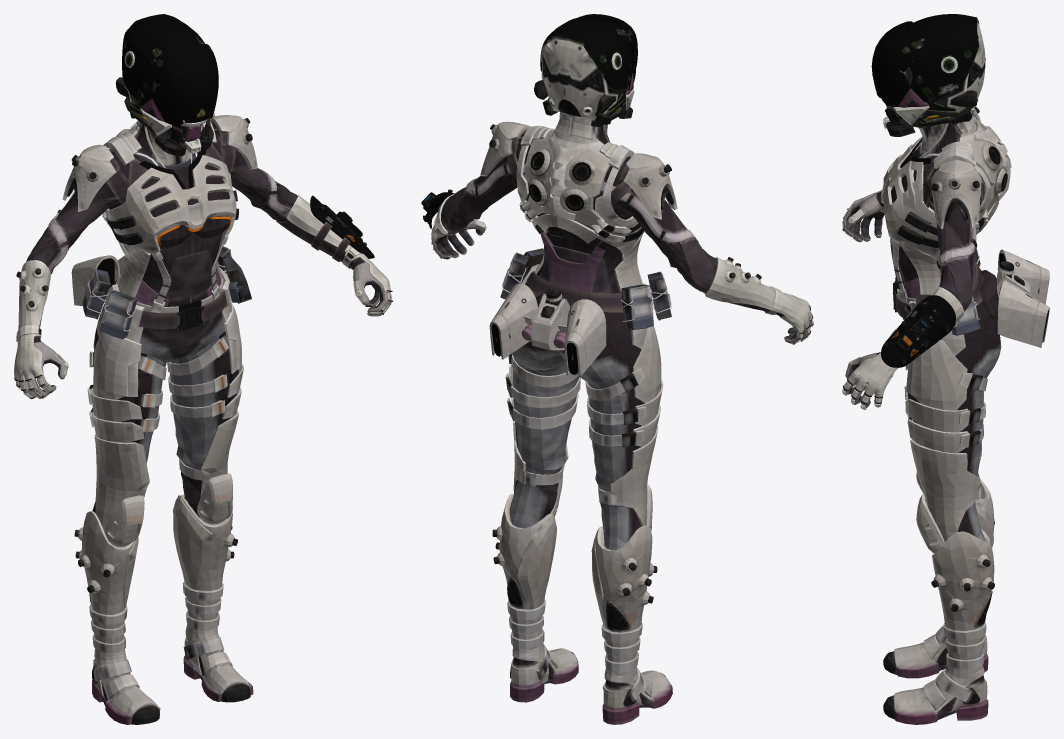
The model's file is wraith.gltf.
3 views of the same model, side by side, from view 1: azimuth 30°, elevation 25°; view 2: azimuth 150°, elevation 25°; view 3: azimuth 270°, elevation 25° (orthographic).
Size of the model in its own units: 1.36 by 2.35 by 0.6566.
